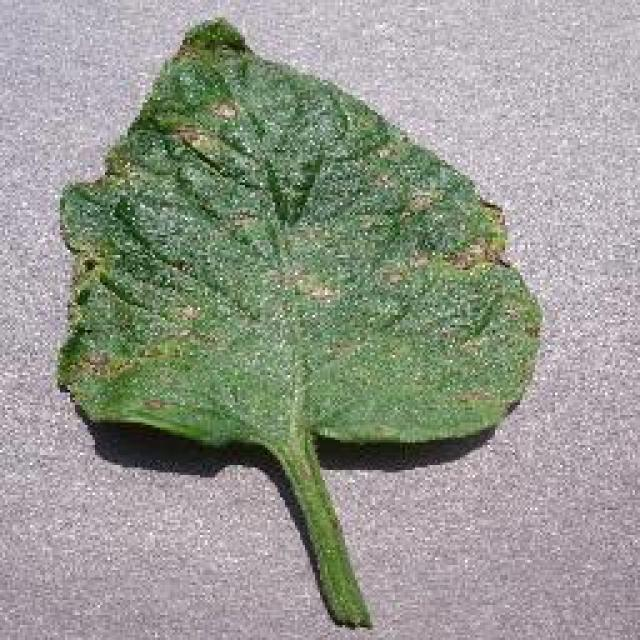Tomato Septoria spot leaf: (58, 12, 540, 448)
